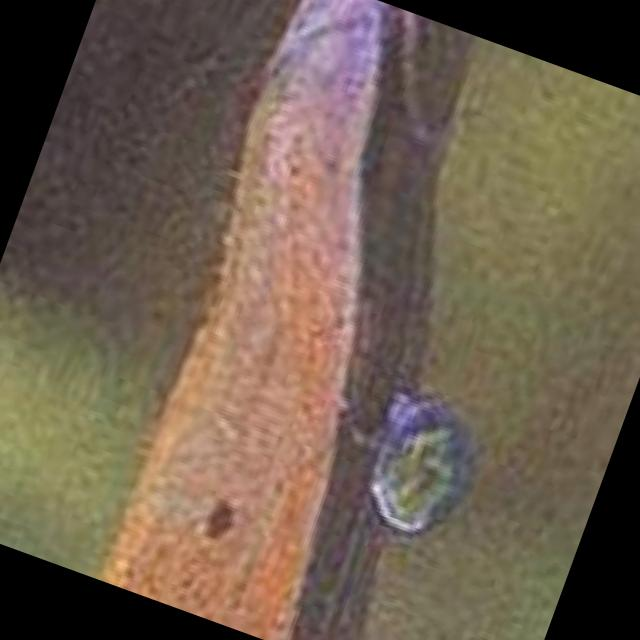stem-borer: (77, 0, 508, 640)
